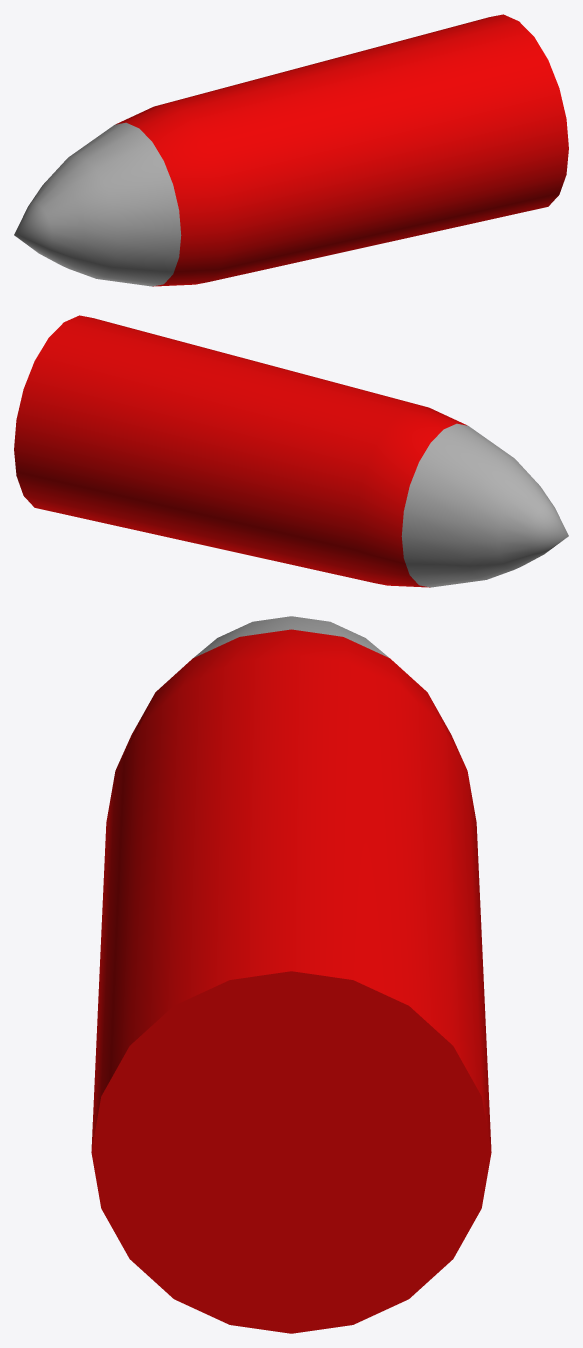
Rendered from obstacle09.fbx.
The picture shows the model from 3 angles, top to bottom: view 1: azimuth 30°, elevation 25°; view 2: azimuth 150°, elevation 25°; view 3: azimuth 270°, elevation 25°; orthographic projection. The views are drawn at different scales.
Visible parts, largest first — view 1: obstacl09; view 2: obstacl09; view 3: obstacl09.
Part boxes in pixels (x1=…): obstacl09: x1=14, y1=14, x2=568, y2=286; obstacl09: x1=14, y1=315, x2=568, y2=587; obstacl09: x1=91, y1=616, x2=491, y2=1333.
Bounding box in the file's own units: 291 × 100 × 100.
